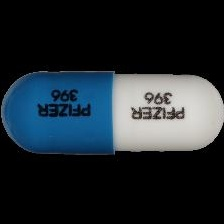49999-620: (0, 0, 224, 224)
